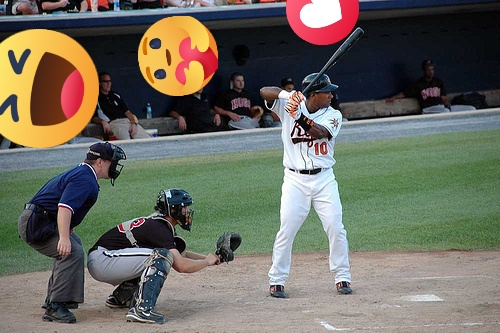care: (138, 16, 218, 96)
haha: (0, 29, 99, 148)
love: (286, 0, 359, 45)
